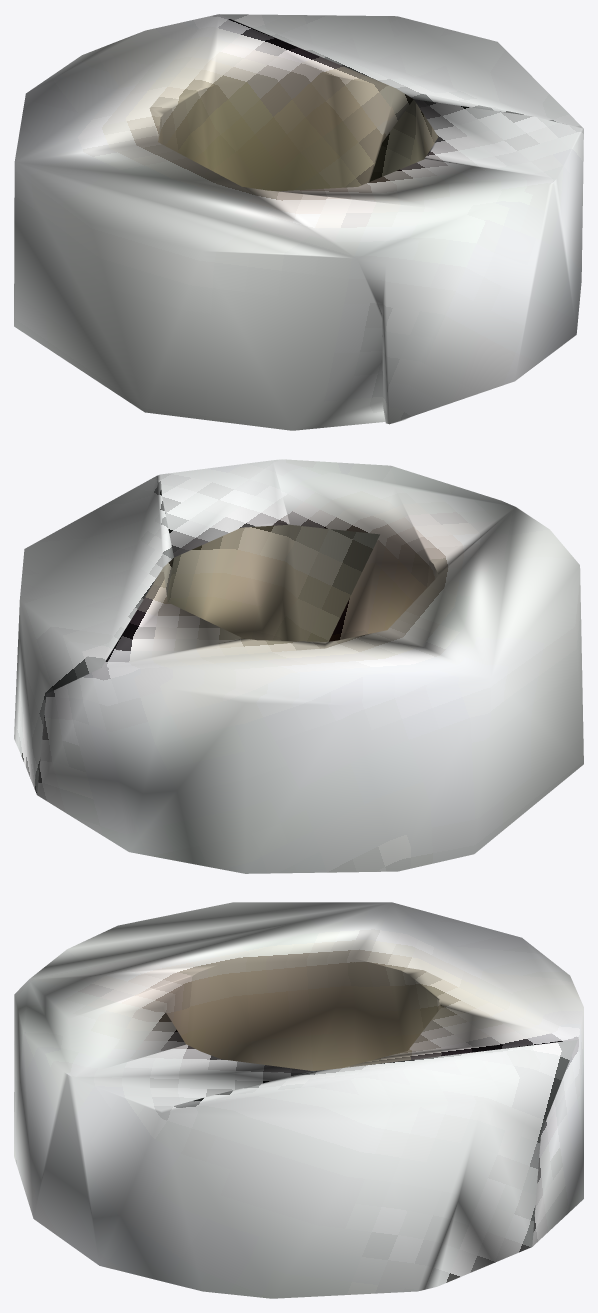
Rendered from Cole_Hardware_Antislip_Surfacing_White_2_x_60-low.glb.
3 views of the same model, one above another, from view 1: azimuth 30°, elevation 25°; view 2: azimuth 150°, elevation 25°; view 3: azimuth 270°, elevation 25° (orthographic).
Parts seen in each view (by area): view 1: Cole_Hardware_Antislip_Surfacing_White_2_x_60; view 2: Cole_Hardware_Antislip_Surfacing_White_2_x_60; view 3: Cole_Hardware_Antislip_Surfacing_White_2_x_60.
Boxes of the visible parts, x1,y1,x2,y2 form: Cole_Hardware_Antislip_Surfacing_White_2_x_60: (14,14,583,430); Cole_Hardware_Antislip_Surfacing_White_2_x_60: (14,459,583,873); Cole_Hardware_Antislip_Surfacing_White_2_x_60: (14,902,583,1298).
Bounding box in the file's own units: 0.154 × 0.0551 × 0.1566.
Materials: 1 (1 with a texture image).
